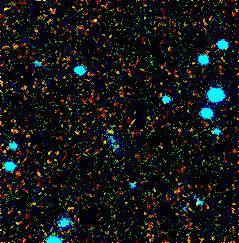star: (95, 117, 125, 147)
